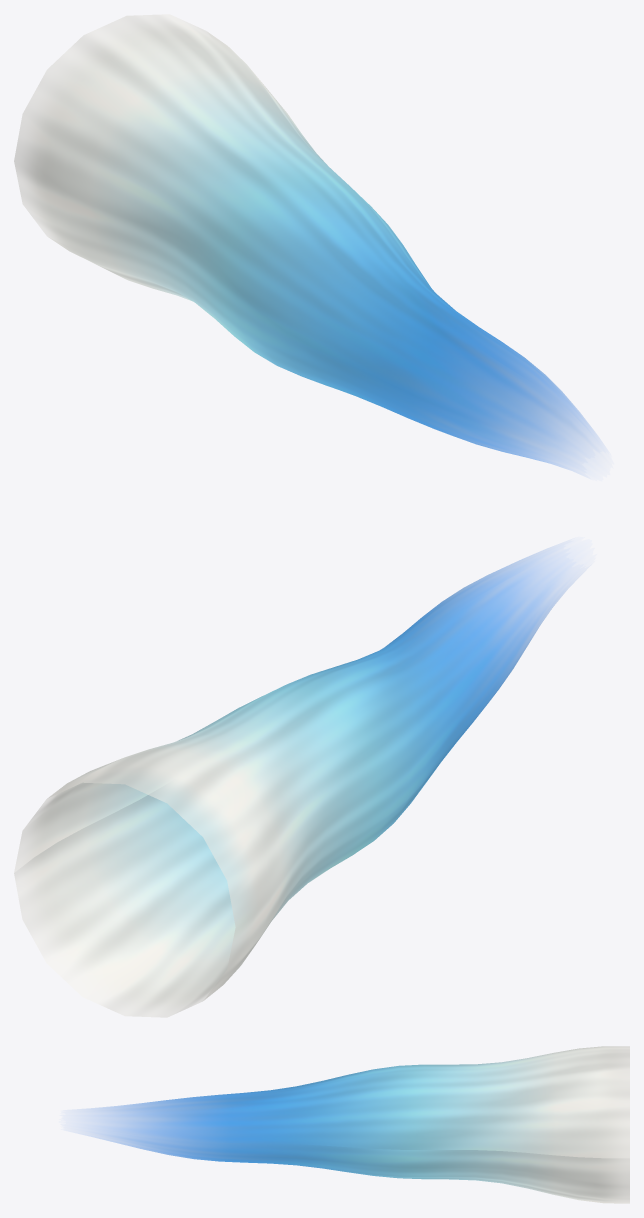
Rendered from flame_core.glb.
3 views of the same model, one above another, from view 1: azimuth 30°, elevation 25°; view 2: azimuth 150°, elevation 25°; view 3: azimuth 270°, elevation 25° (orthographic). The views are drawn at different scales.
Visible parts, largest first — view 1: SkyRally_FlameCore; view 2: SkyRally_FlameCore; view 3: SkyRally_FlameCore.
Boxes of the visible parts, bbox=[...] form: SkyRally_FlameCore: bbox=[14, 14, 596, 470]; SkyRally_FlameCore: bbox=[14, 548, 572, 1017]; SkyRally_FlameCore: bbox=[86, 1046, 629, 1203].
Size of the model in its own units: 1.03 by 1.02 by 4.
1 material, 1 textured.
